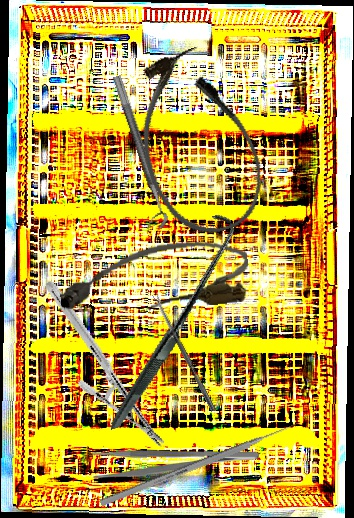Cannula: (116, 39, 277, 247), (56, 235, 252, 321)
Dressing Forceps: (91, 447, 260, 480)
Fixation Ring: (99, 74, 171, 233)
Hook Surgical: (56, 211, 283, 430)
Needle Holder: (4, 280, 206, 448)
Pusher: (99, 418, 303, 508)
Surgical Spoon: (152, 292, 217, 412)
